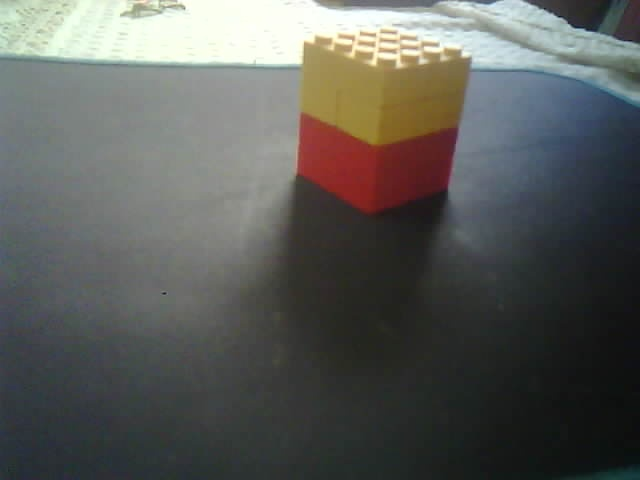lego: (294, 24, 473, 216)
